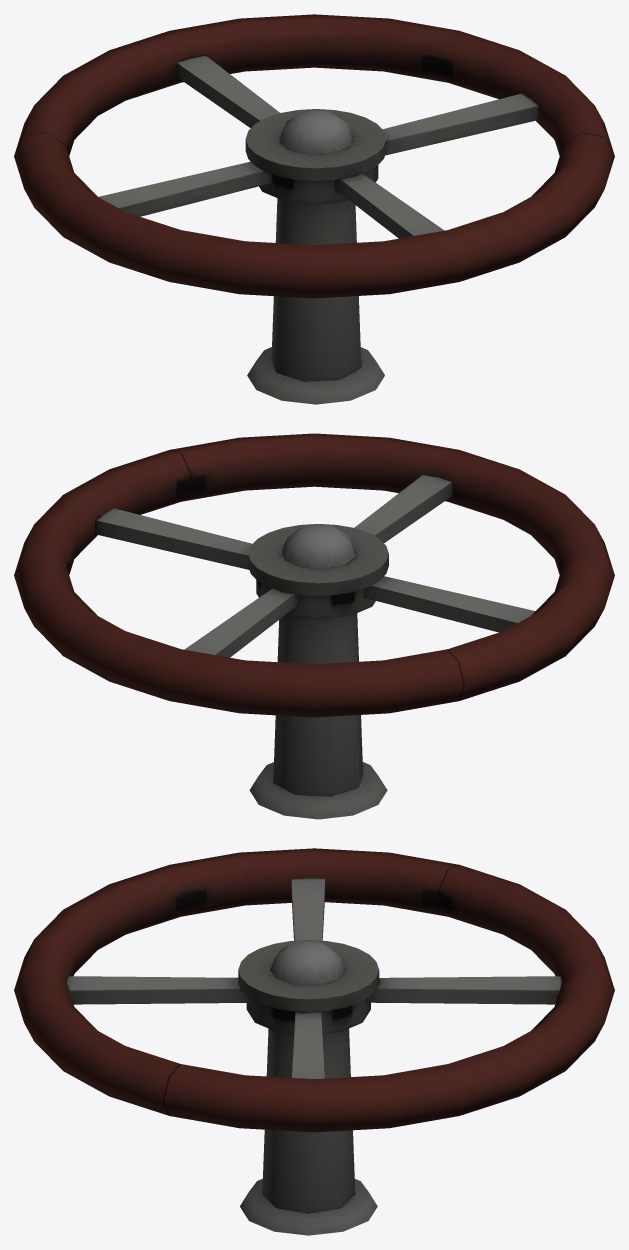
3 views of the same model, one above another, from view 1: azimuth 30°, elevation 25°; view 2: azimuth 150°, elevation 25°; view 3: azimuth 270°, elevation 25° (orthographic).
Parts seen in each view (by area): view 1: body0_model0_lod0_mesh0; view 2: body0_model0_lod0_mesh0; view 3: body0_model0_lod0_mesh0.
Part boxes in pixels (box(x1,y1,x2,y2)): body0_model0_lod0_mesh0: box(14, 14, 614, 404); body0_model0_lod0_mesh0: box(14, 433, 614, 819); body0_model0_lod0_mesh0: box(14, 848, 614, 1235).
Size of the model in its own units: 12.78 by 6.13 by 12.78.
1 material, 1 textured.
